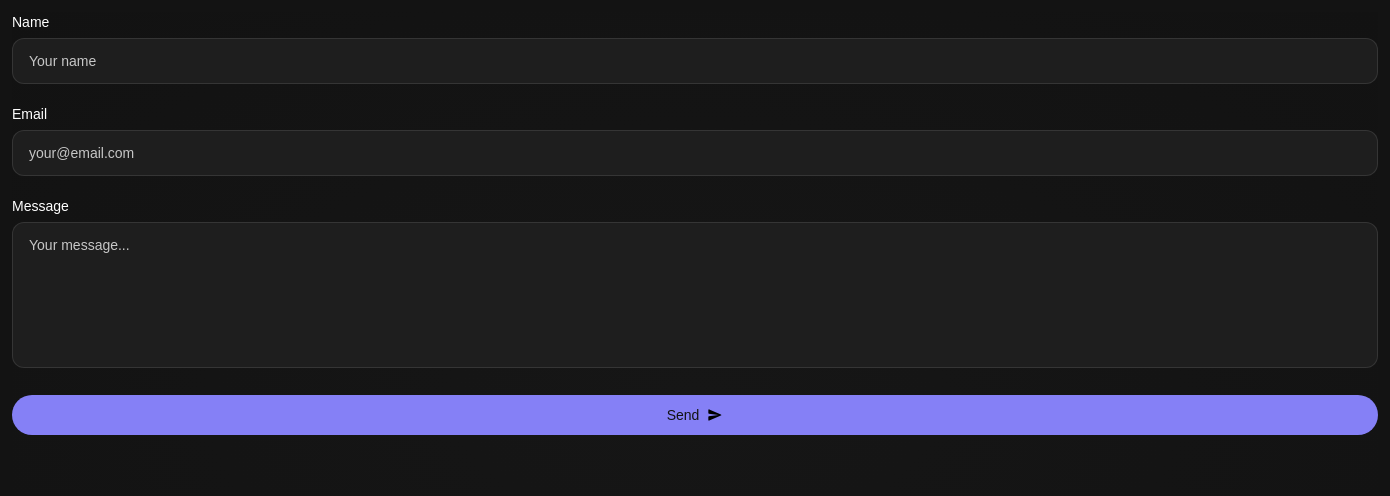
ContactForm in en › shows the server error and keeps the filled form
Type "Alex Martin" into the field labelled "Name" at {"x": 695, "y": 61}, box [12,38,1378,84]
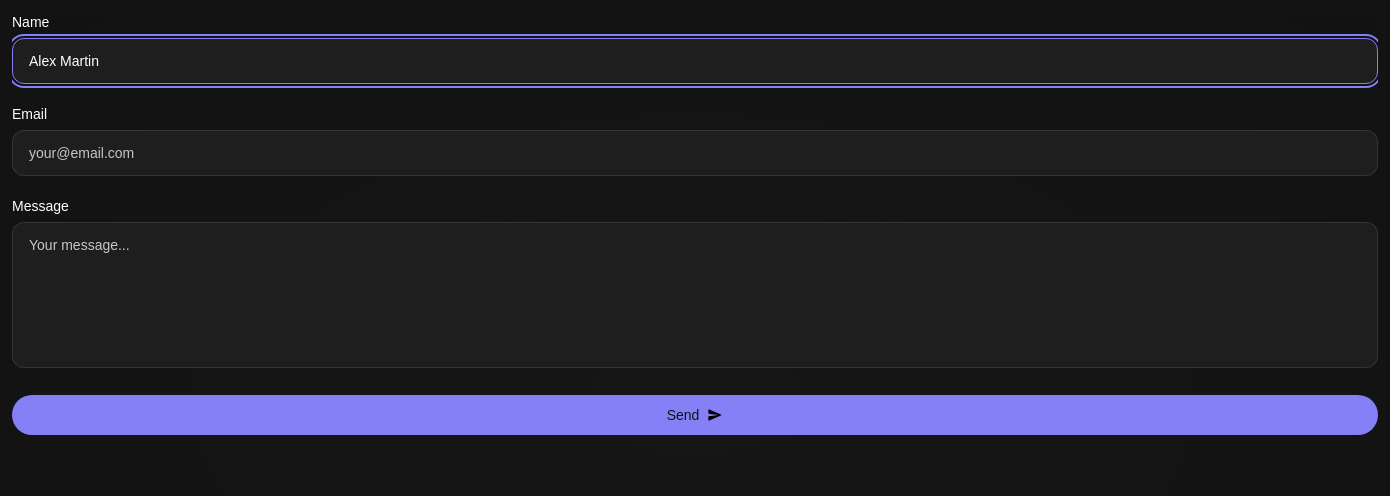
Type "alex@example.com" into the field labelled "Email" at {"x": 695, "y": 153}, box [12,130,1378,176]
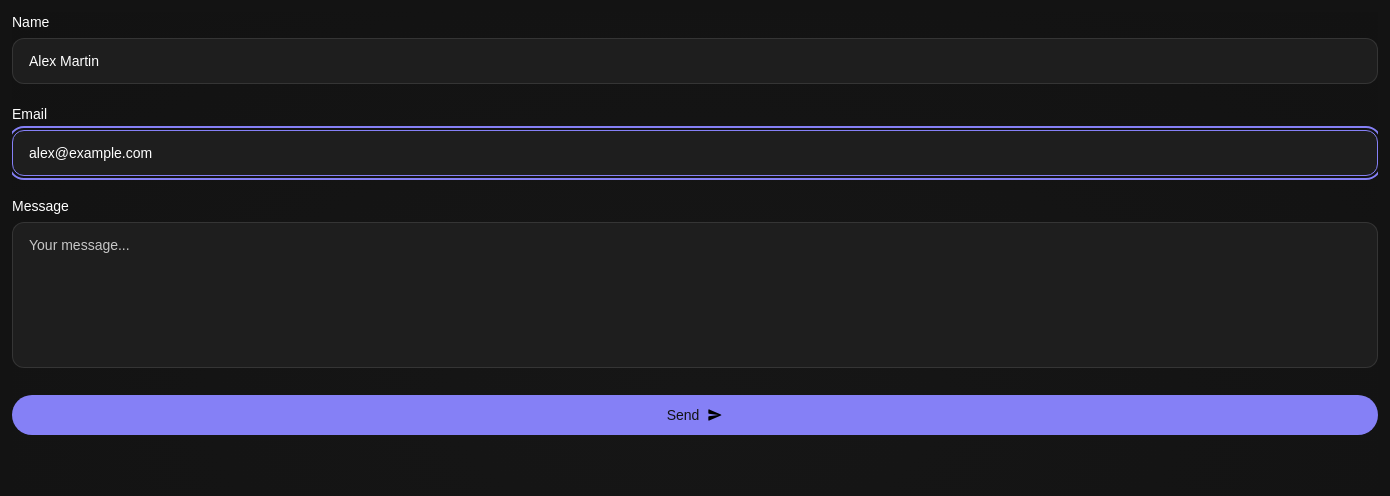
Type "Bonjour, je souhaite échanger." into the text box labelled "Message" at {"x": 695, "y": 295}, box [12,222,1378,368]
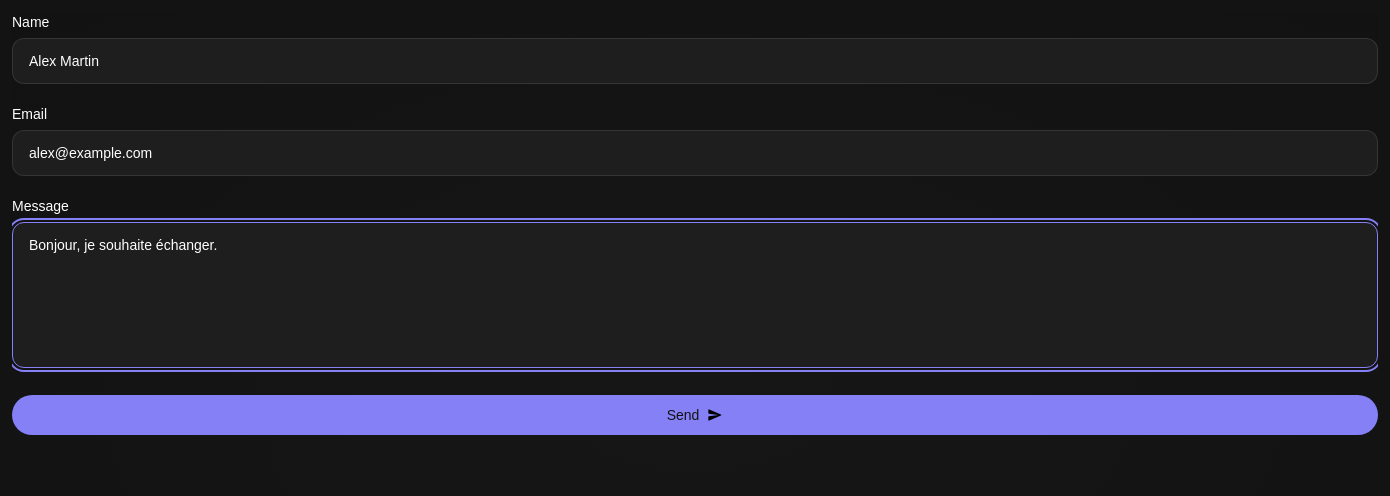
Click the button "Send" at {"x": 695, "y": 415}, box [12,395,1378,435]
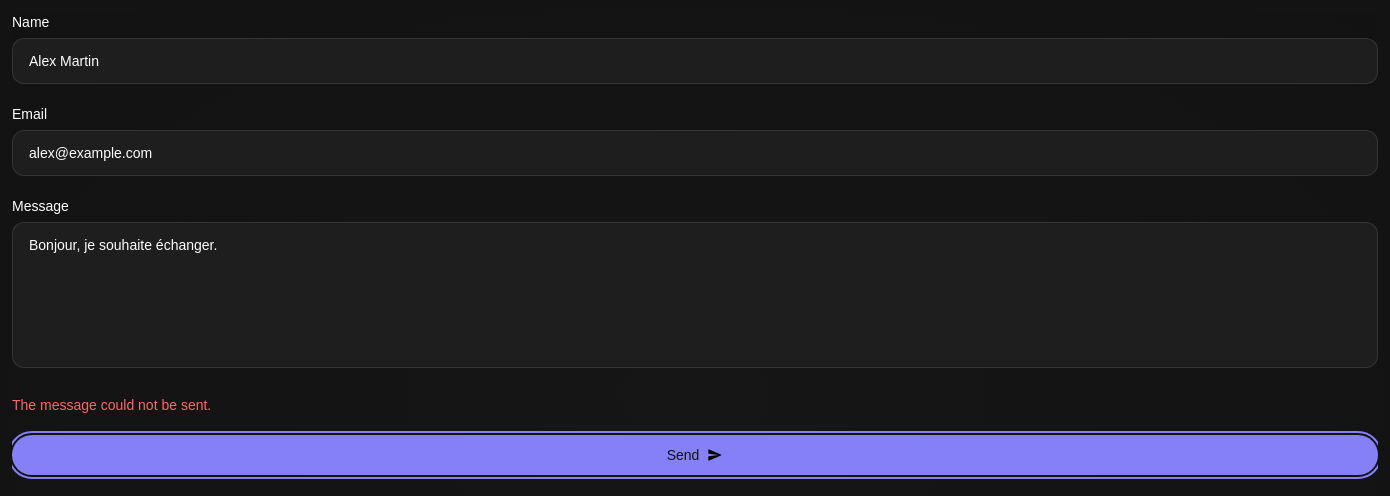
Now the text "The message could not be sent." is shown, box [12,397,211,413]
